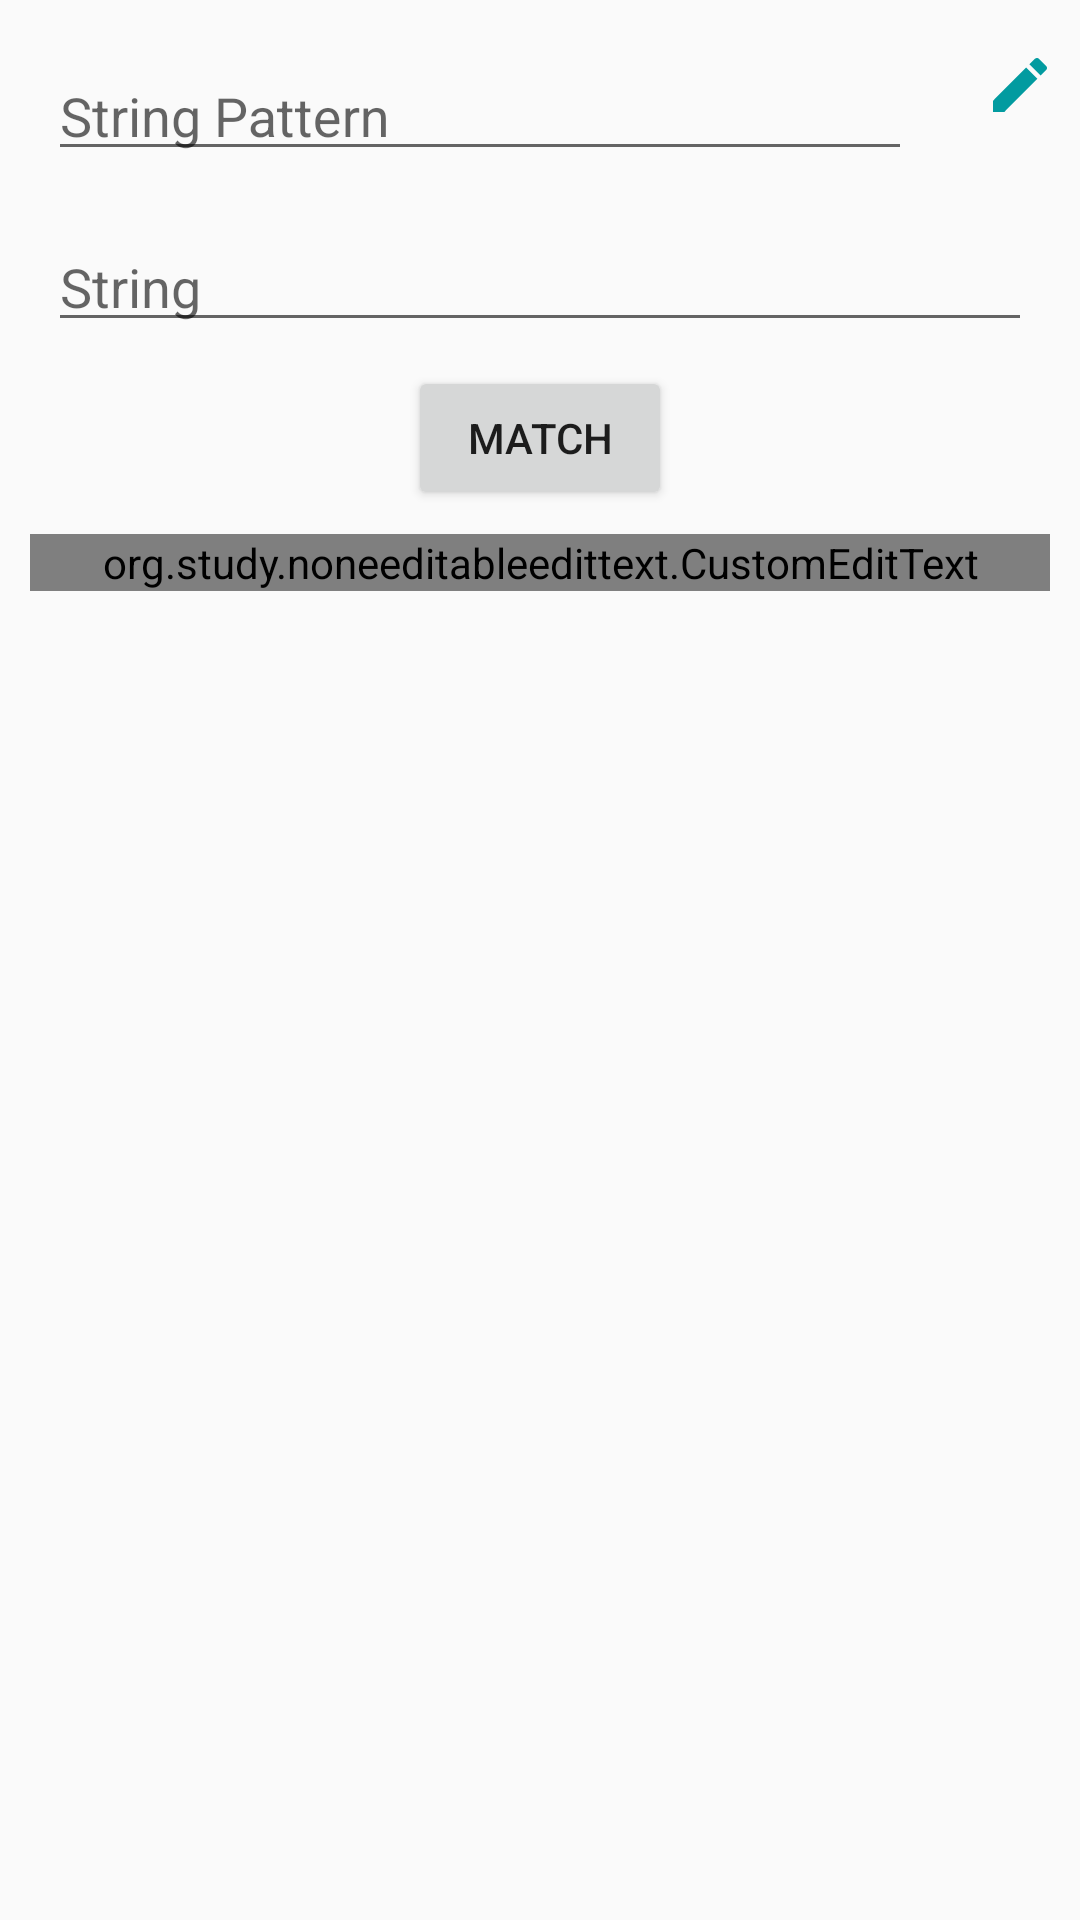

Where to tap for icons on this 1080 x 1920 app screen, as (x,y):
mode edit: (1020,85)
